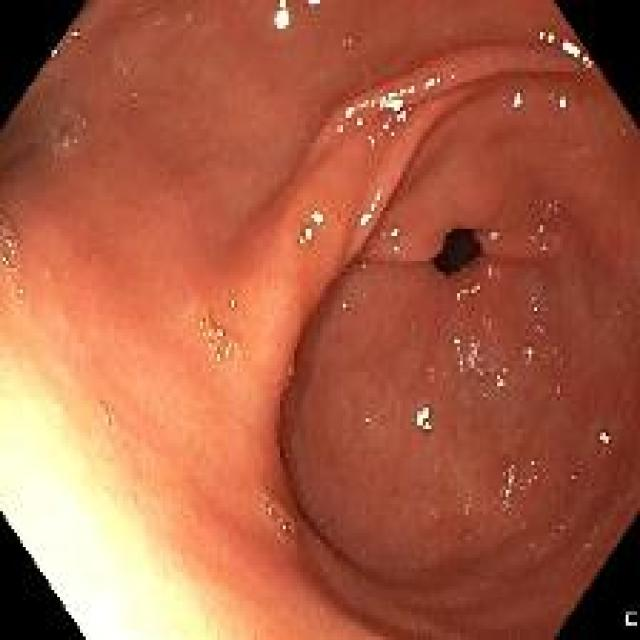bubbles: (207, 288, 254, 344), (369, 110, 398, 143), (213, 335, 238, 365), (1, 234, 19, 271), (262, 496, 281, 521), (282, 514, 296, 546), (9, 285, 29, 307), (100, 406, 116, 427), (522, 344, 534, 369), (213, 373, 228, 388), (530, 301, 541, 316)
contrast: (434, 229, 485, 273)
saturation: (0, 319, 216, 639)
specularity: (500, 464, 519, 512), (467, 335, 484, 382), (339, 98, 370, 118), (368, 88, 415, 101), (451, 285, 482, 302), (271, 1, 289, 30), (414, 405, 431, 433), (296, 226, 314, 248), (486, 262, 504, 284), (493, 366, 510, 389), (368, 188, 383, 214), (381, 112, 396, 138), (520, 344, 535, 367), (560, 39, 578, 58), (595, 428, 612, 448), (538, 26, 555, 45), (509, 88, 525, 107), (395, 104, 410, 124), (308, 210, 325, 226), (421, 77, 442, 89), (450, 332, 462, 353), (353, 114, 367, 131), (333, 122, 346, 140), (356, 210, 370, 226), (456, 359, 467, 379), (47, 46, 61, 61), (69, 26, 82, 42), (554, 94, 566, 111), (390, 240, 402, 256), (538, 240, 549, 256), (337, 297, 349, 311), (366, 133, 377, 148), (536, 222, 546, 237), (305, 0, 321, 9), (580, 56, 592, 68), (285, 365, 294, 379), (390, 227, 401, 237), (486, 230, 498, 239)
